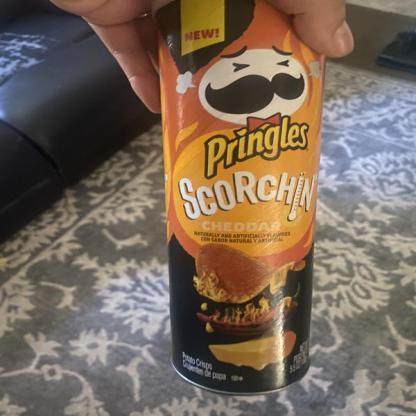potatochip: (147, 0, 330, 403)
